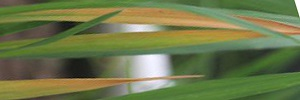RiceTungro: (47, 7, 296, 27), (3, 69, 203, 93)
